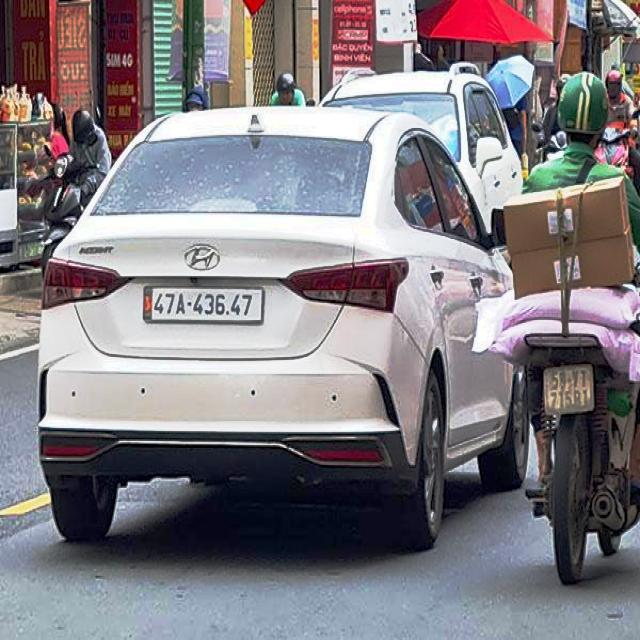license_plate: (144, 286, 264, 323)
